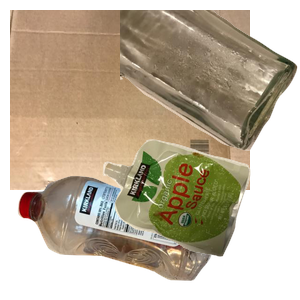cardboard: (10, 10, 250, 190)
glass: (120, 10, 300, 153)
plastic: (15, 173, 222, 300)
trash: (100, 137, 300, 300)
